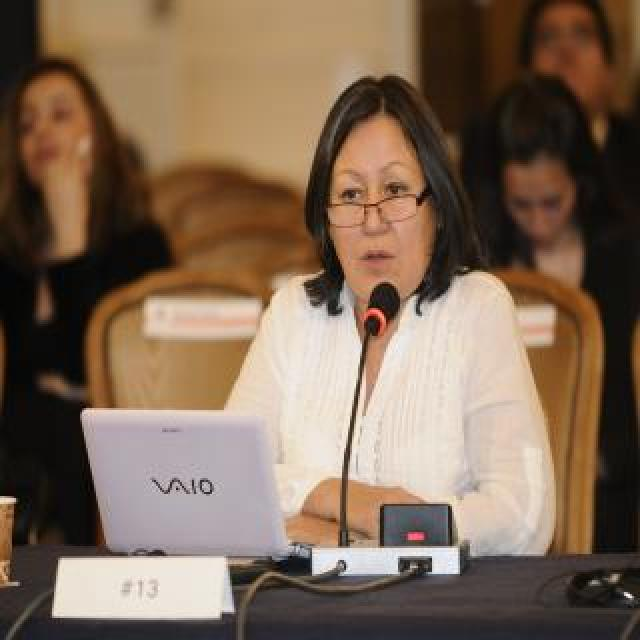laptop_computer: (76, 401, 324, 573)
